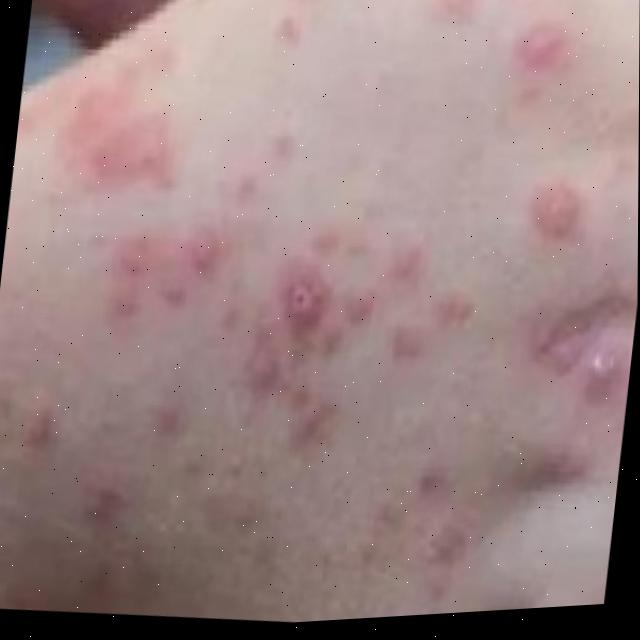Eczema: (38, 13, 640, 637)
